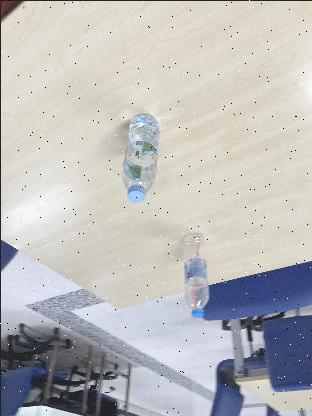Plastic Bottle: (120, 112, 160, 204), (176, 230, 212, 320)
